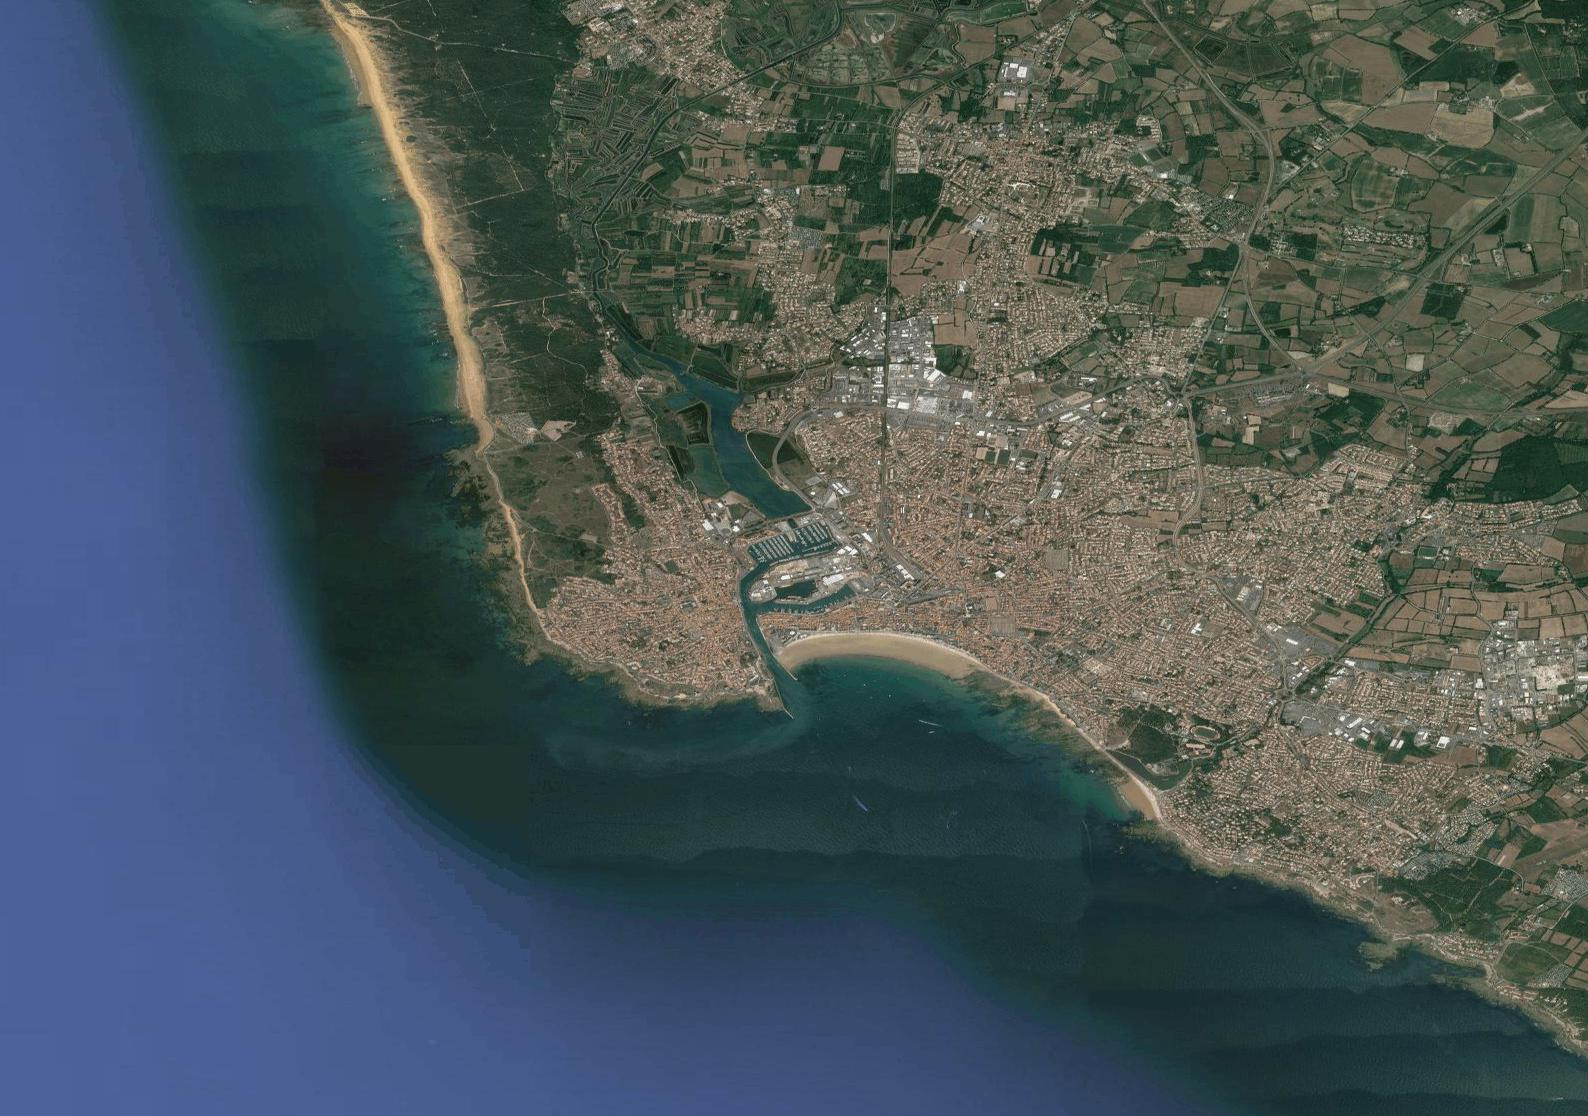harbor: (751, 513, 842, 615)
industrial: (885, 353, 942, 411)
motorway: (781, 403, 815, 434), (785, 483, 818, 507), (770, 435, 785, 481)
